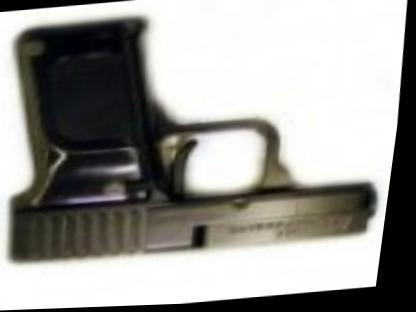pistol: (0, 3, 405, 276)
